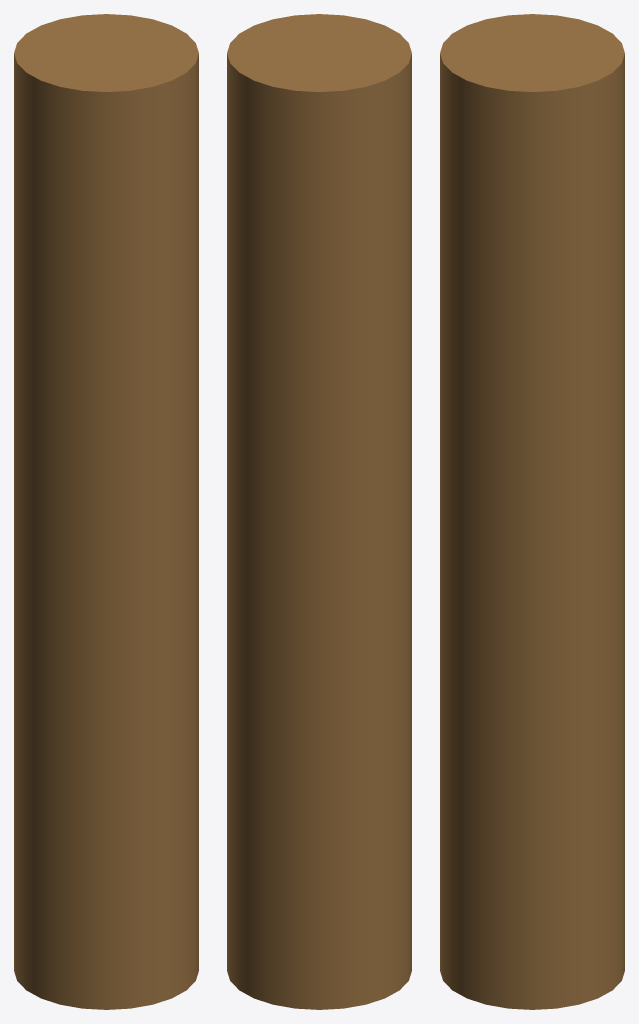
File: original-5.obj
The picture shows the model from 3 angles, left to right: view 1: azimuth 30°, elevation 25°; view 2: azimuth 150°, elevation 25°; view 3: azimuth 270°, elevation 25°; orthographic projection.
Parts seen in each view (by area): view 1: Group5/mesh15/mesh15-geometry#mesh15-geometry; view 2: Group5/mesh15/mesh15-geometry#mesh15-geometry; view 3: Group5/mesh15/mesh15-geometry#mesh15-geometry.
Boxes of the visible parts, x1,y1,x2,y2 form: Group5/mesh15/mesh15-geometry#mesh15-geometry: [14, 14, 198, 1009]; Group5/mesh15/mesh15-geometry#mesh15-geometry: [227, 14, 411, 1009]; Group5/mesh15/mesh15-geometry#mesh15-geometry: [440, 14, 624, 1009].
Size of the model in its own units: 0.0356 by 0.1951 by 0.0356.
